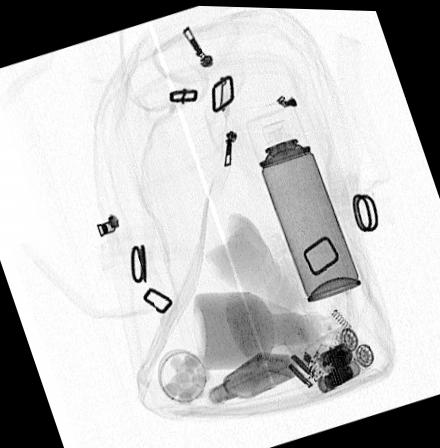Sprayer: (244, 101, 363, 301)
